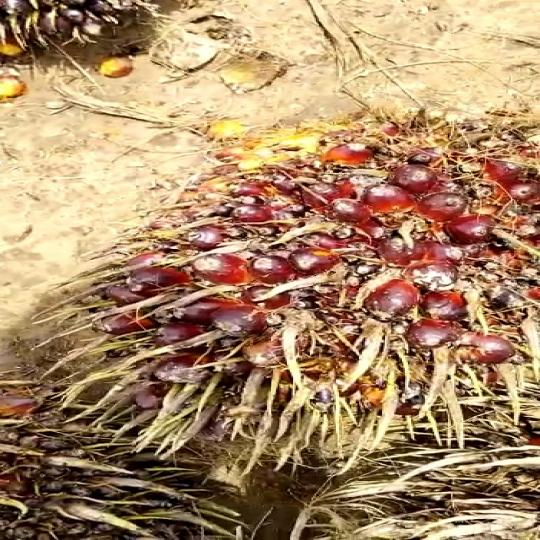masak: (99, 110, 540, 447)
